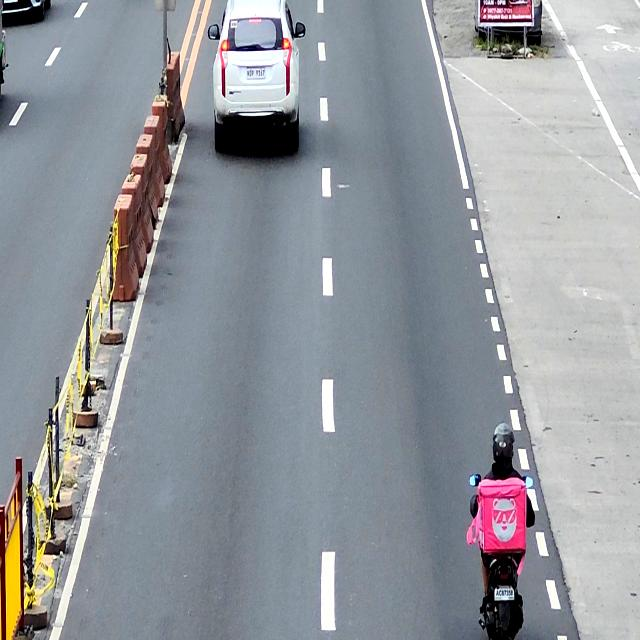Car: (208, 0, 306, 154)
License-Plate: (494, 584, 516, 602), (246, 67, 266, 79)
Motorcycle: (470, 471, 533, 640)
